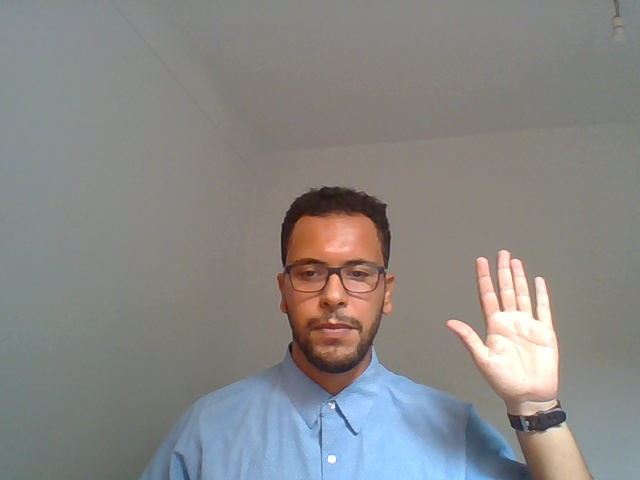hello: (411, 218, 598, 467)
